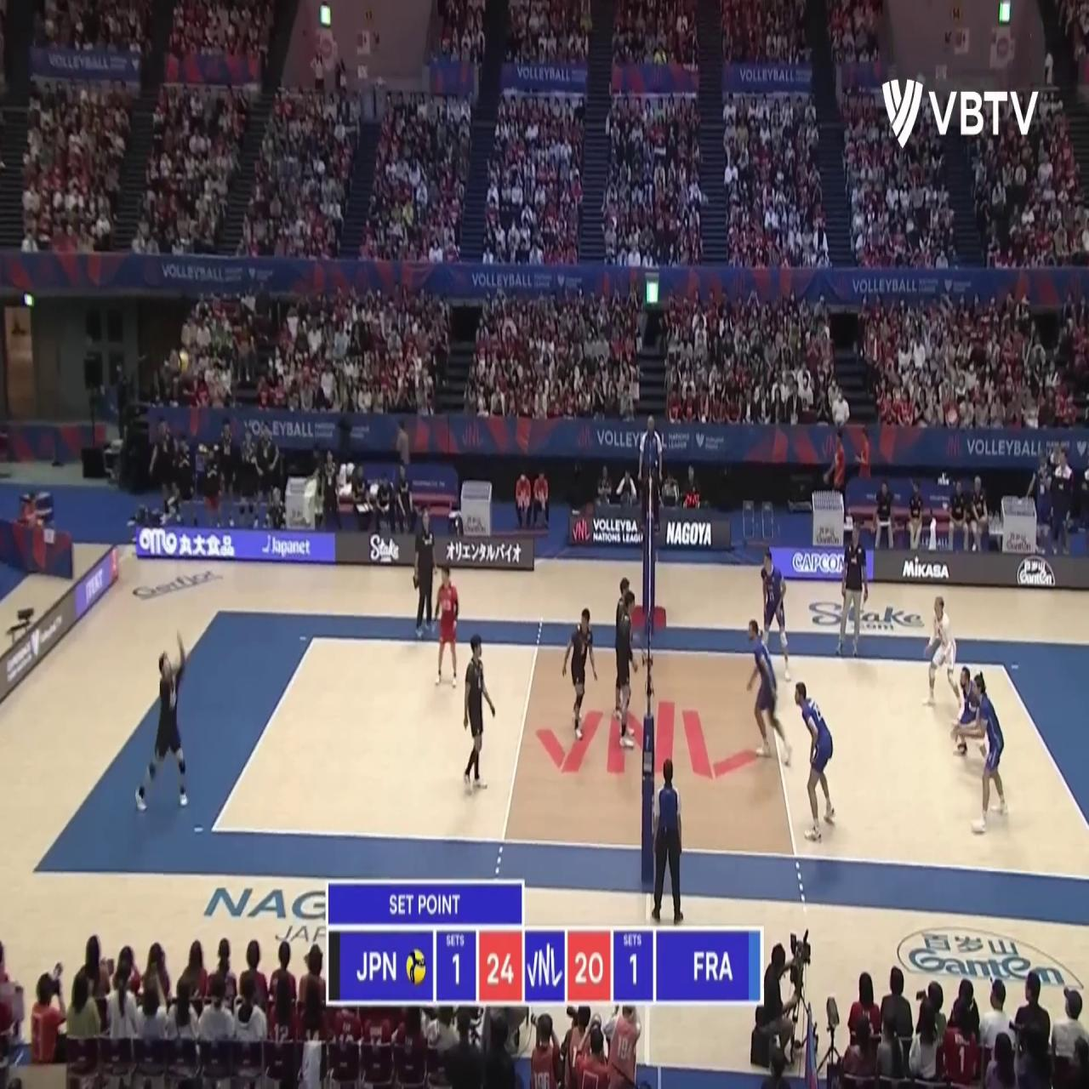ball: (176, 349, 190, 375)
